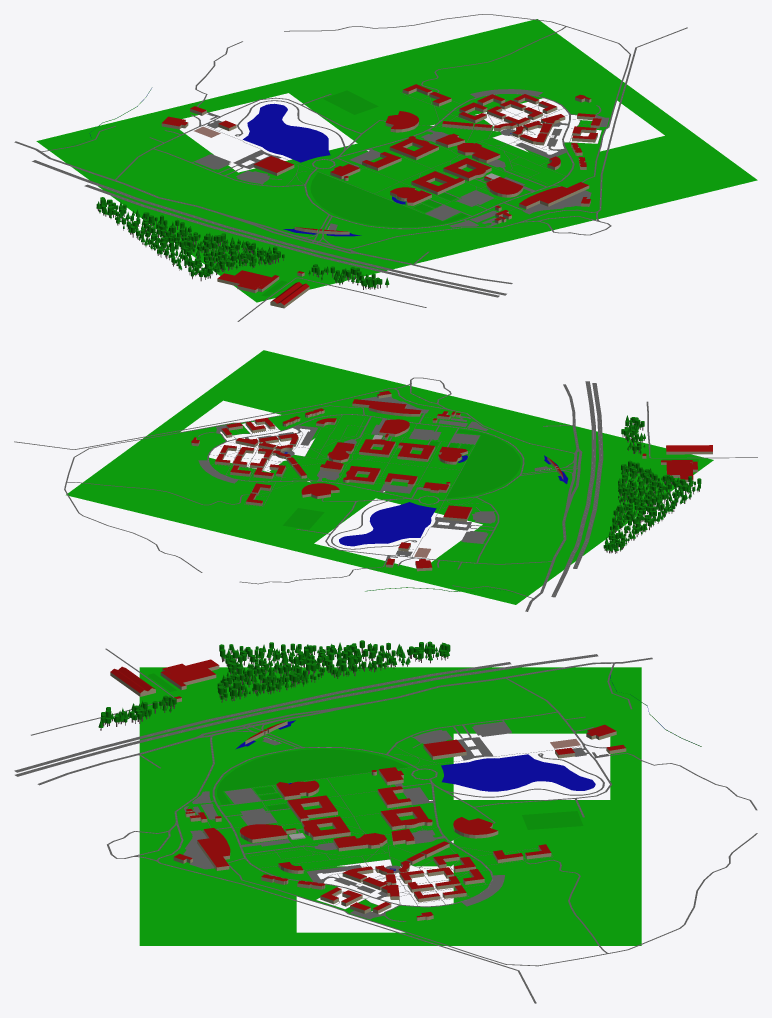
File: campusModel2.fbx
3 renders of one model, top to bottom at view 1: azimuth 30°, elevation 25°; view 2: azimuth 150°, elevation 25°; view 3: azimuth 270°, elevation 25°, orthographic. The views are drawn at different scales.
Visible parts, largest first — view 1: Others, Walkable; view 2: Others, Walkable; view 3: Others, Walkable.
Part boxes in pixels (x1,y1,x2,y2): Others: (14,14,757,321); Walkable: (149,92,601,229); Others: (14,350,757,611); Walkable: (198,413,524,569); Others: (14,640,757,1003); Walkable: (201,711,611,921).
Size of the model in its own units: 30.96 by 0.5009 by 27.41.
